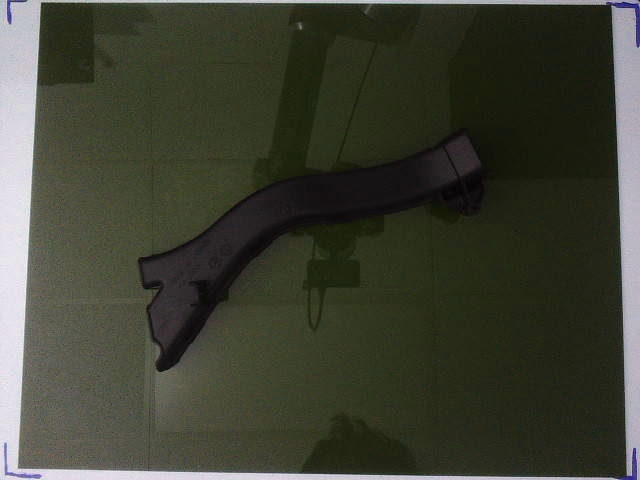887_A-Top: (135, 129, 485, 373)
